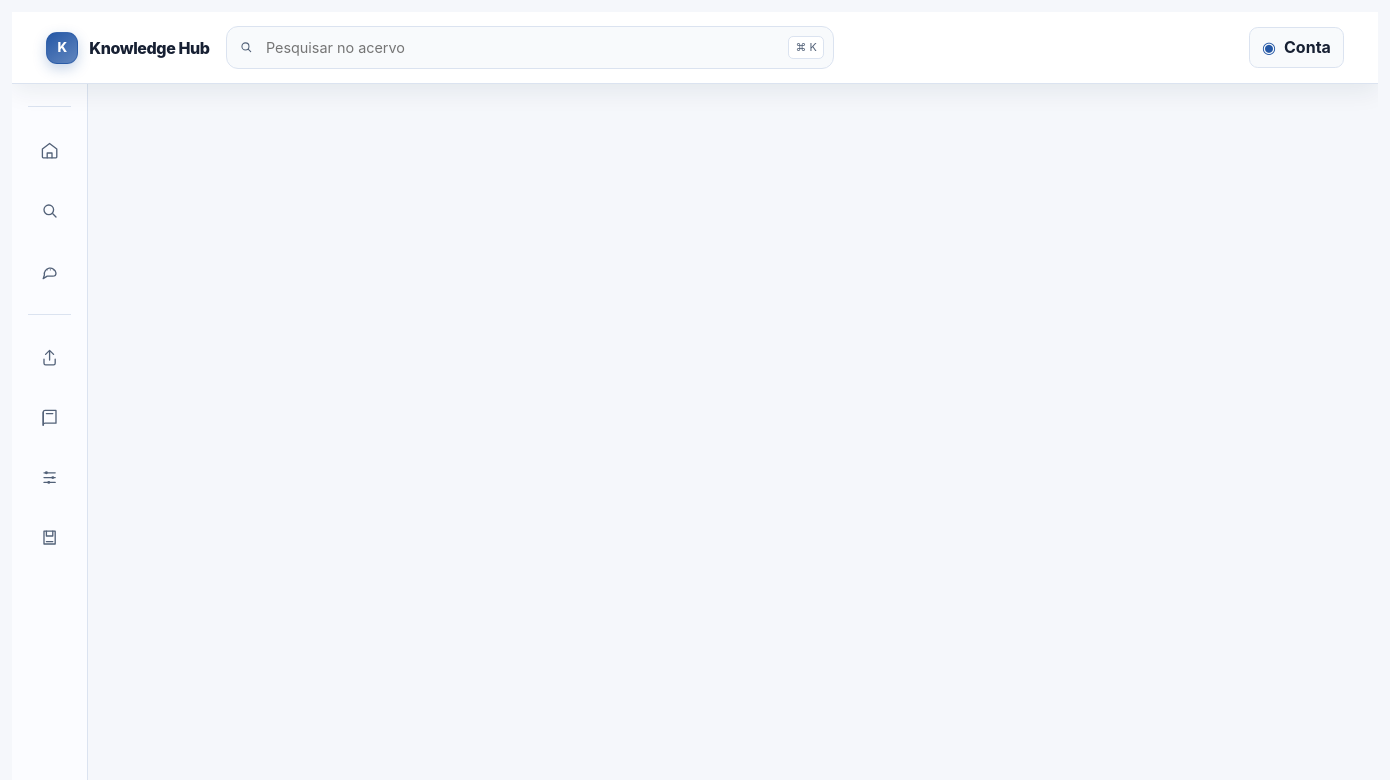
Scenario: AuthenticatedLayoutComponent › groups theme, settings and logout in the user menu
Click the button with class "user-menu-button" at (1296, 48), box x1=1249 y1=27 x2=1344 y2=68
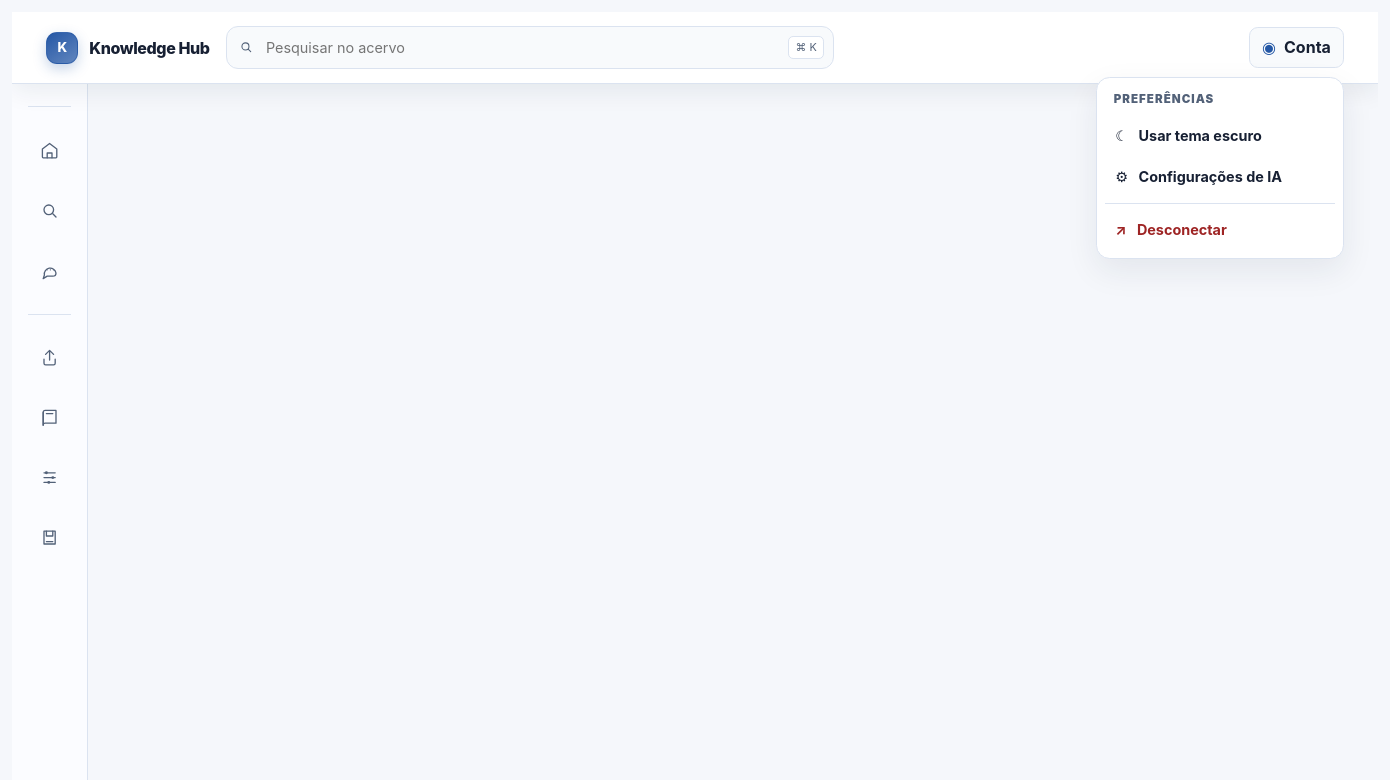
Expected: the menu with class "user-menu" shows "Configurações de IA", x1=1105 y1=156 x2=1335 y2=197
Expected: the menu with class "user-menu" shows "Desconectar", x1=1105 y1=210 x2=1335 y2=250
